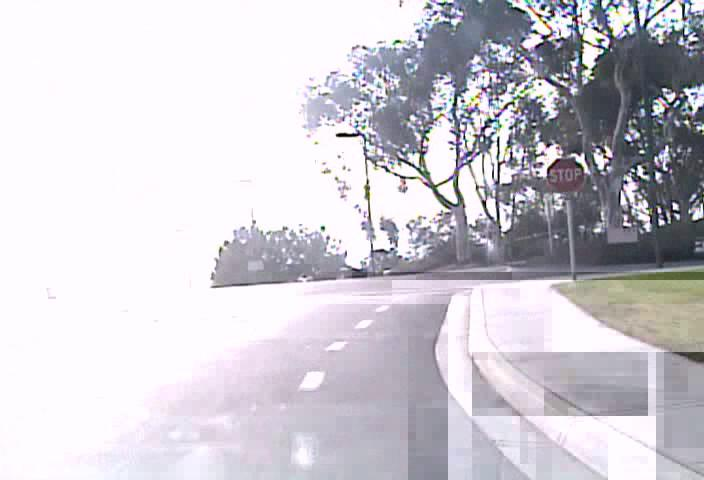stop: (546, 157, 584, 193)
